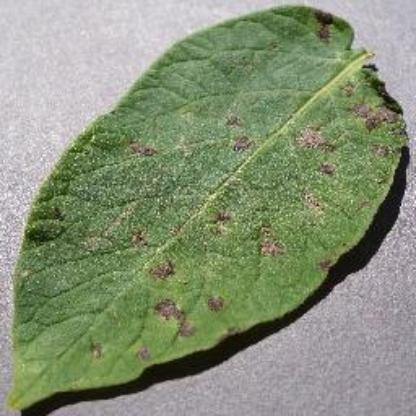Early-Blight: (10, 3, 416, 415)
